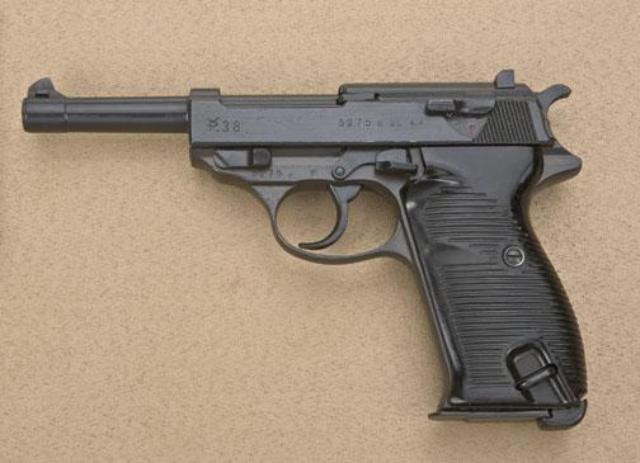handgun: (18, 64, 594, 438)
